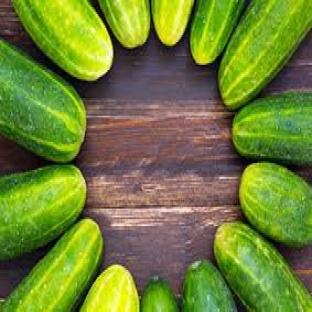Cucumber: (0, 39, 85, 163), (0, 220, 102, 311), (214, 223, 311, 311), (0, 165, 85, 259), (240, 164, 311, 247), (233, 93, 311, 164), (81, 265, 140, 311), (182, 262, 237, 311), (141, 277, 178, 311)
